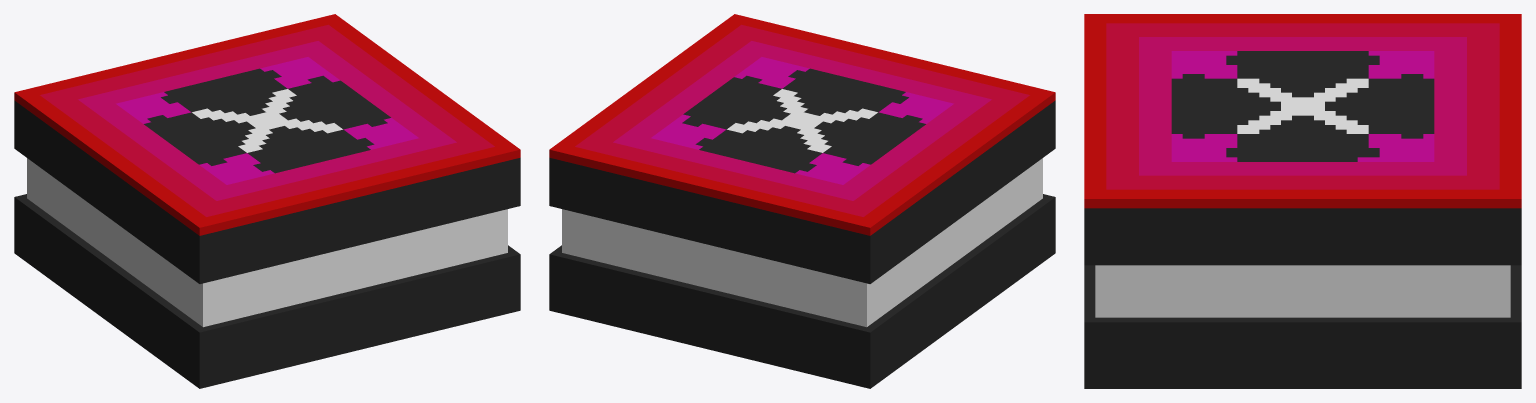
The model's file is PlataformPuerta.FBX.
3 renders of one model, left to right at view 1: azimuth 30°, elevation 25°; view 2: azimuth 150°, elevation 25°; view 3: azimuth 270°, elevation 25°, orthographic. The views are drawn at different scales.
Parts seen in each view (by area): view 1: PlataformaPuerta; view 2: PlataformaPuerta; view 3: PlataformaPuerta.
Part boxes in pixels (left/top/right/bottom): PlataformaPuerta: left=14, top=14, right=520, bottom=388; PlataformaPuerta: left=549, top=14, right=1055, bottom=388; PlataformaPuerta: left=1084, top=14, right=1521, bottom=388.
Size of the model in its own units: 1 by 0.4797 by 1.
Materials: 1 (1 with a texture image).
